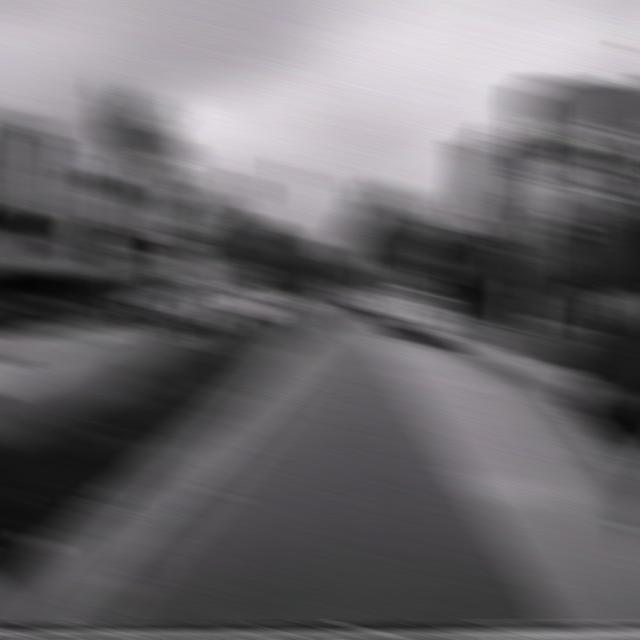speedLimit25: (578, 123, 630, 206)
